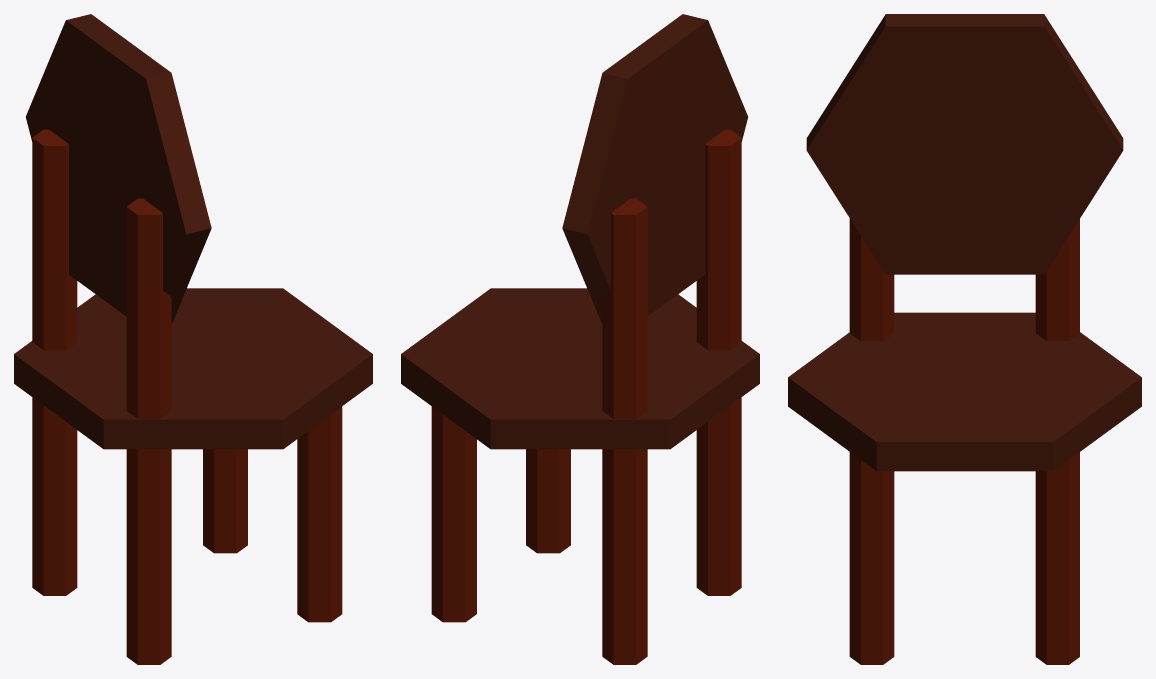
Rendered from Chair.fbx.
The picture shows the model from 3 angles, left to right: view 1: azimuth 30°, elevation 25°; view 2: azimuth 150°, elevation 25°; view 3: azimuth 270°, elevation 25°; orthographic projection.
Visible parts, largest first — view 1: Cylinder.009, Cylinder.010, Cylinder.008, Cylinder.006, Cylinder.007, Cylinder.005; view 2: Cylinder.009, Cylinder.010, Cylinder.006, Cylinder.008, Cylinder.005, Cylinder.007; view 3: Cylinder.010, Cylinder.009, Cylinder.007, Cylinder.005, Cylinder.008, Cylinder.006.
Boxes of the visible parts, x1=… form: Cylinder.009: x1=14, y1=288, x2=372, y2=449; Cylinder.010: x1=26, y1=14, x2=211, y2=323; Cylinder.008: x1=126, y1=198, x2=171, y2=664; Cylinder.006: x1=32, y1=129, x2=77, y2=595; Cylinder.007: x1=297, y1=406, x2=342, y2=622; Cylinder.005: x1=203, y1=449, x2=247, y2=553; Cylinder.009: x1=401, y1=288, x2=759, y2=449; Cylinder.010: x1=562, y1=14, x2=747, y2=323; Cylinder.006: x1=602, y1=198, x2=647, y2=664; Cylinder.008: x1=696, y1=129, x2=741, y2=595; Cylinder.005: x1=431, y1=406, x2=476, y2=622; Cylinder.007: x1=526, y1=449, x2=570, y2=553; Cylinder.010: x1=806, y1=14, x2=1123, y2=274; Cylinder.009: x1=788, y1=312, x2=1141, y2=471; Cylinder.007: x1=849, y1=452, x2=894, y2=664; Cylinder.005: x1=1035, y1=452, x2=1079, y2=664; Cylinder.008: x1=849, y1=218, x2=894, y2=341; Cylinder.006: x1=1035, y1=219, x2=1079, y2=341.
Bounding box in the file's own units: 483 × 981 × 558.
